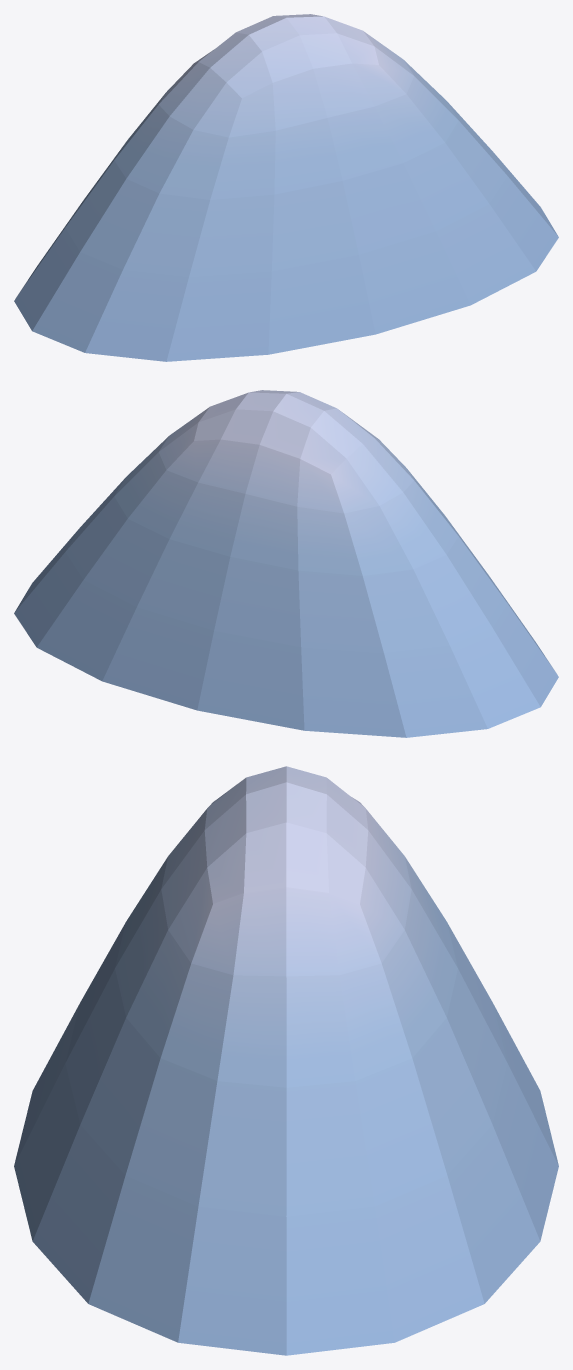
Rendered from environment_mountain.fbx.
The picture shows the model from 3 angles, top to bottom: view 1: azimuth 30°, elevation 25°; view 2: azimuth 150°, elevation 25°; view 3: azimuth 270°, elevation 25°; orthographic projection. The views are drawn at different scales.
Visible parts, largest first — view 1: Cube.002; view 2: Cube.002; view 3: Cube.002.
Part boxes in pixels (x1,y1,x2,y2): Cube.002: (14,14,558,361); Cube.002: (14,390,558,737); Cube.002: (14,766,558,1355).
Bounding box in the file's own units: 2432 × 1149 × 1478.
